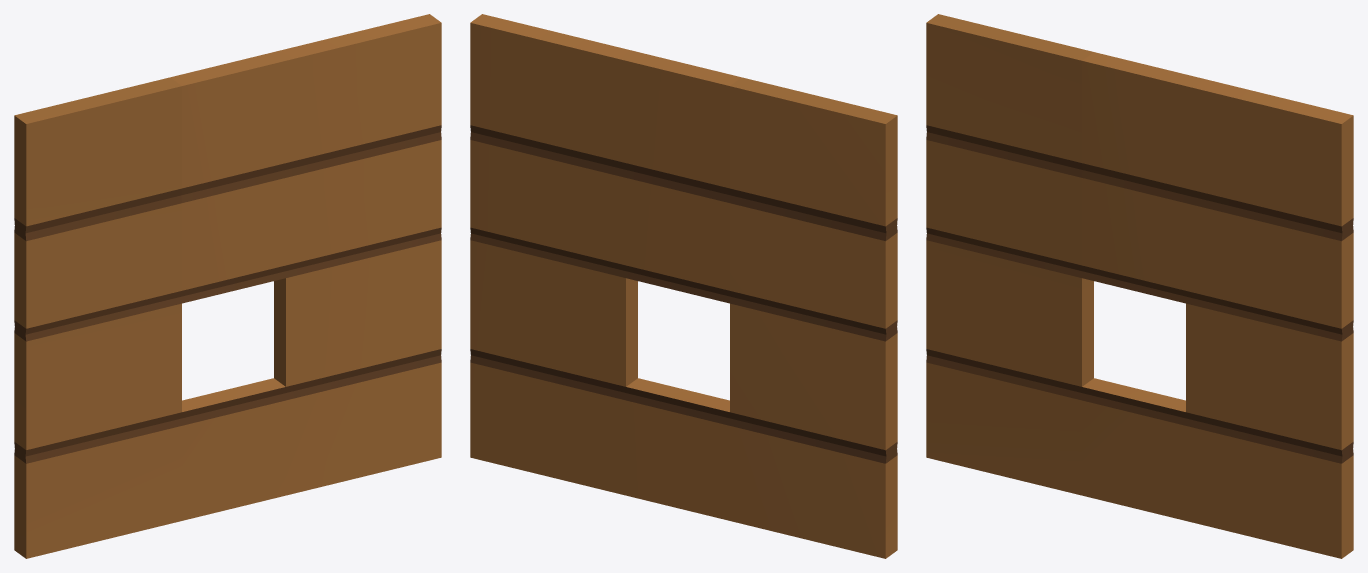
Rendered from Wall_Wood_Window_01.fbx.
The picture shows the model from 3 angles, left to right: view 1: azimuth 30°, elevation 25°; view 2: azimuth 150°, elevation 25°; view 3: azimuth 330°, elevation 25°; orthographic projection.
Visible parts, largest first — view 1: Wall_Wood_Window_01; view 2: Wall_Wood_Window_01; view 3: Wall_Wood_Window_01.
Part boxes in pixels (box(x1,y1,x2,y2)): Wall_Wood_Window_01: box(14, 14, 441, 558); Wall_Wood_Window_01: box(470, 14, 897, 558); Wall_Wood_Window_01: box(926, 14, 1353, 558).
Bounding box in the file's own units: 4 × 4 × 0.2.
